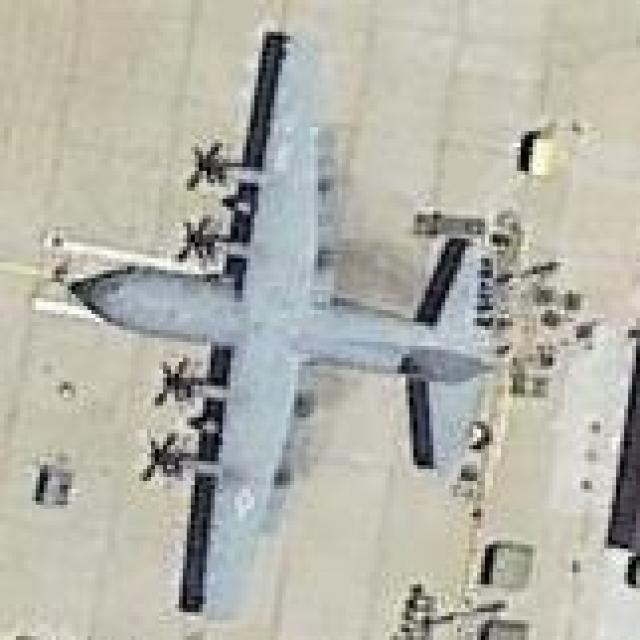C-130_TopDown: (64, 24, 506, 626)
